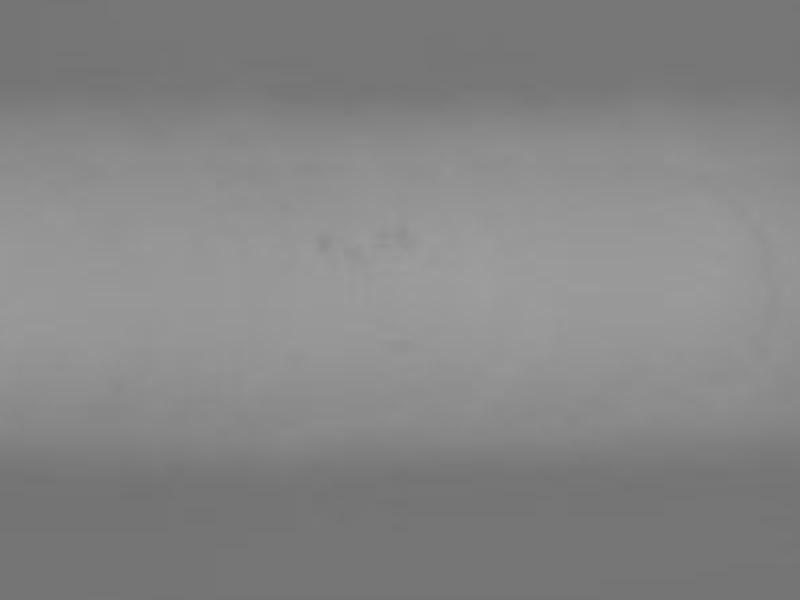defect: (390, 224, 420, 261), (314, 233, 332, 250)
